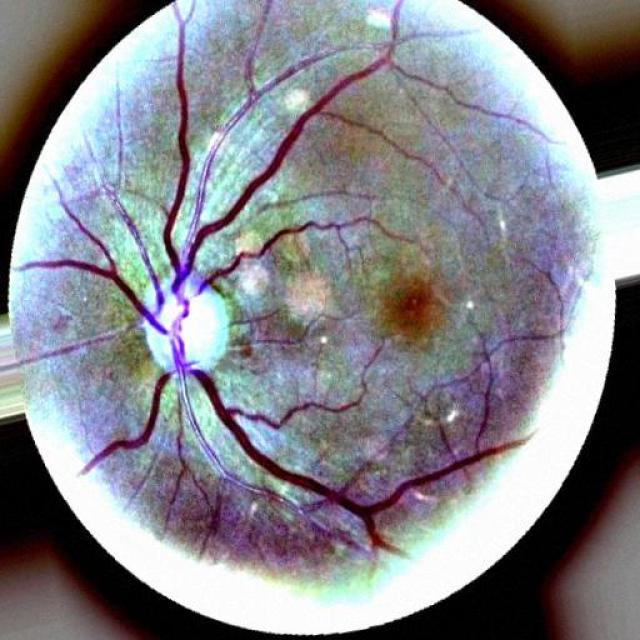Macula: (384, 275, 444, 340)
Nerves: (188, 20, 396, 272), (194, 370, 390, 548), (19, 259, 166, 334), (82, 374, 169, 474), (162, 20, 190, 269), (240, 69, 295, 114), (164, 205, 178, 265)
Optic Disk: (141, 271, 228, 371)
